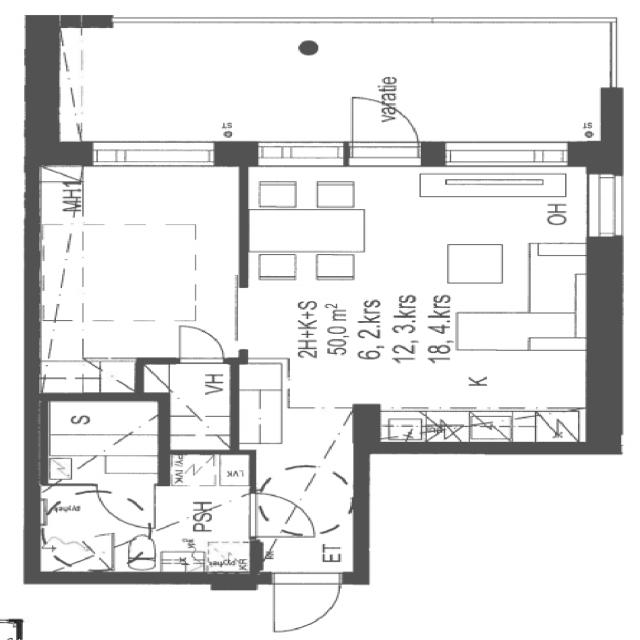door: (342, 93, 425, 165), (265, 570, 347, 636), (245, 486, 318, 540), (92, 484, 160, 530), (168, 321, 230, 366)
window: (434, 132, 580, 172), (81, 136, 224, 173), (246, 134, 356, 171), (580, 169, 629, 247)
zone: (232, 169, 551, 410), (38, 153, 234, 381), (32, 481, 248, 572), (159, 452, 251, 575), (38, 399, 162, 488), (162, 362, 238, 451), (266, 574, 342, 636)
